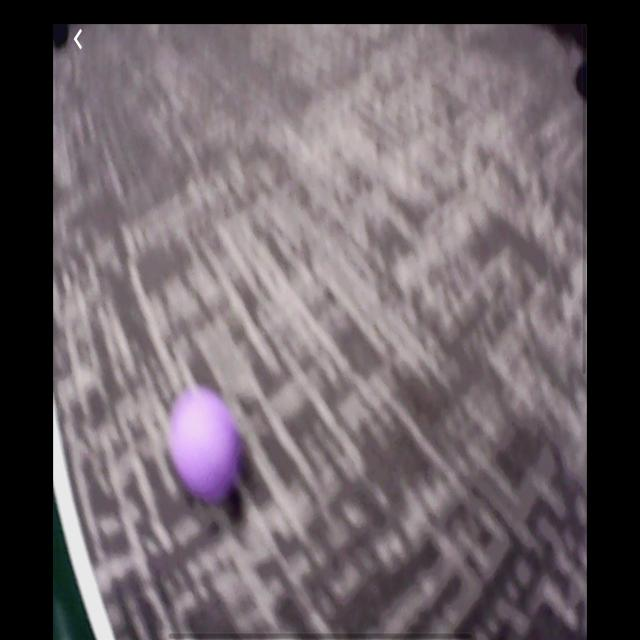ball: (168, 385, 245, 508)
